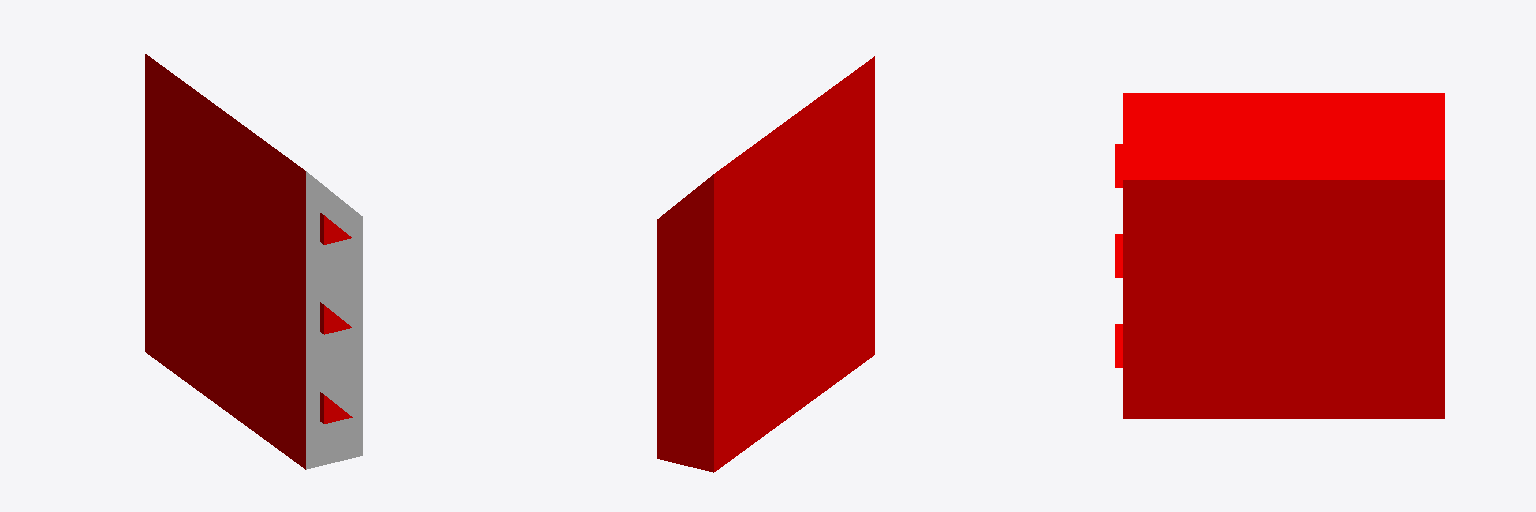
File: PartRed.obj
The picture shows the model from 3 angles: view 1: azimuth 30°, elevation 25°; view 2: azimuth 150°, elevation 25°; view 3: azimuth 270°, elevation 25°; orthographic projection.
Parts seen in each view (by area): view 1: PartRed; view 2: PartRed; view 3: PartRed.
Boxes of the visible parts, x1,y1,x2,y2 form: PartRed: [145, 54, 362, 469]; PartRed: [657, 56, 874, 472]; PartRed: [1115, 93, 1444, 418].
Bounding box in the file's own units: 0.2 × 1 × 1.